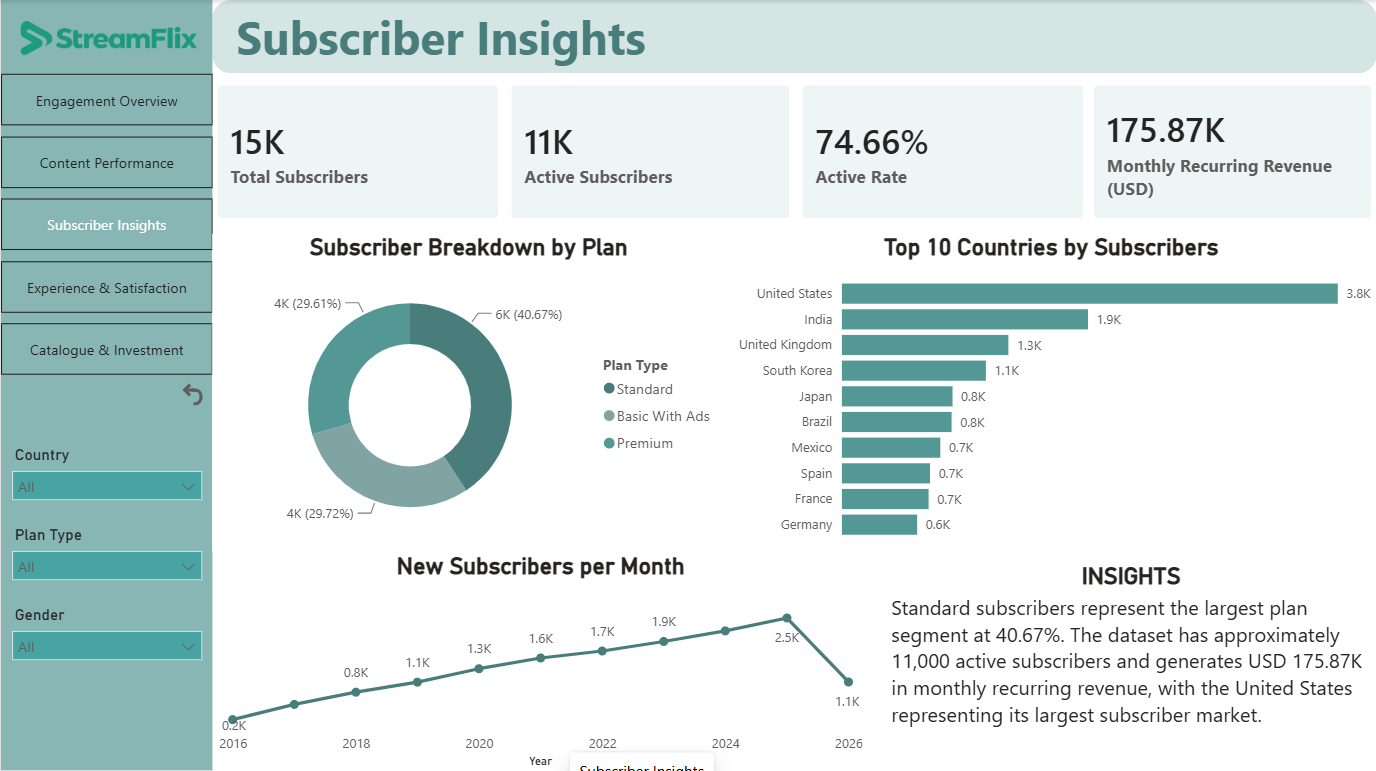

What the dashboard file says about the page in this screenshot:
{"tool":"powerbi","page":{"name":"Subscriber Insights","canvas":[1280,720],"ordinal":2},"visuals":[{"type":"cardVisual","fields":{"Data":["public subscribers.Total Subscribers"]},"box":[197,75,271,134],"z":0,"group":"g3"},{"type":"shape","box":[0,0,196.7,716.7],"z":1000},{"type":"donutChart","title":"Subscriber Breakdown by Plan","fields":{"Category":["public subscribers.plan_type"],"Y":["public subscribers.Total Subscribers"]},"box":[197,218.2,477.2,295.5],"z":1000,"group":"g2"},{"type":"group","id":"g1","title":"Group 1","box":[0,408.8,197.5,223.8],"z":1500},{"type":"shape","box":[196.7,0,1083.3,68.3],"z":2000},{"type":"cardVisual","fields":{"Data":["public subscribers.Active Rate (%)"]},"box":[741,75,271,134],"z":2000,"group":"g3"},{"type":"clusteredBarChart","title":"Top 10 Countries by Subscribers","fields":{"Category":["public subscribers.country"],"Y":["public subscribers.Total Subscribers"]},"box":[674.7,218,605.3,295.1],"z":2000,"group":"g2"},{"type":"textbox","box":[214,0,764,68],"z":3000},{"type":"cardVisual","fields":{"Data":["public subscribers.Monthly Recurring Revenue (USD)"]},"box":[1012,75,268,134],"z":3000,"group":"g3"},{"type":"lineChart","title":"New Subscribers per Month","fields":{"Category":["public subscribers.signup_date.Variation.Date Hierarchy.Year","public subscribers.signup_date.Variation.Date Hierarchy.Month"],"Y":["public subscribers.Total Subscribers"]},"box":[198.4,514.2,608.9,205.5],"z":3000,"group":"g2"},{"type":"cardVisual","fields":{"Data":["public subscribers.Active Subscribers"]},"box":[470,75,269,134],"z":3500,"group":"g3"},{"type":"image","box":[0,0,197.1,68.6],"z":4000},{"type":"pageNavigator","box":[0,68.6,197.1,281.4],"z":5000},{"type":"actionButton","box":[164,352.3,32.6,29.1],"z":6000},{"type":"group","id":"g2","title":"Group 2","box":[197,218,1083,502],"z":7000},{"type":"slicer","fields":{"Values":["public subscribers.country"]},"box":[0,408.8,197.1,74.3],"z":7000,"group":"g1"},{"type":"group","id":"g3","title":"Group 3","box":[197,75,1083,134],"z":8000},{"type":"slicer","fields":{"Values":["public subscribers.plan_type"]},"box":[0,483.1,197.1,74.3],"z":8000,"group":"g1"},{"type":"textbox","title":"INSIGHTS","box":[824.1,513.7,455.9,206.3],"z":9000,"group":"g2"},{"type":"slicer","fields":{"Values":["public subscribers.gender"]},"box":[0,557.4,197.1,74.3],"z":9000,"group":"g1"}]}

Visuals, with their boxes on the page's 1280x720 design canvas (x1, y1, x2, y2). These are canvas units, not pixel positions in the 1376x771 screenshot, which may show the page scaled, cropped or inside an application window:
cardVisual - public subscribers.Total Subscribers: box(197, 75, 468, 209)
shape: box(0, 0, 197, 717)
"Subscriber Breakdown by Plan" donutChart: box(197, 218, 674, 514)
"Group 1" group: box(0, 409, 198, 633)
shape: box(197, 0, 1280, 68)
cardVisual - public subscribers.Active Rate (%): box(741, 75, 1012, 209)
"Top 10 Countries by Subscribers" clusteredBarChart: box(675, 218, 1280, 513)
textbox: box(214, 0, 978, 68)
cardVisual - public subscribers.Monthly Recurring Revenue (USD): box(1012, 75, 1280, 209)
"New Subscribers per Month" lineChart: box(198, 514, 807, 720)
cardVisual - public subscribers.Active Subscribers: box(470, 75, 739, 209)
image: box(0, 0, 197, 69)
pageNavigator: box(0, 69, 197, 350)
actionButton: box(164, 352, 197, 381)
"Group 2" group: box(197, 218, 1280, 720)
slicer - public subscribers.country: box(0, 409, 197, 483)
"Group 3" group: box(197, 75, 1280, 209)
slicer - public subscribers.plan_type: box(0, 483, 197, 557)
"INSIGHTS" textbox: box(824, 514, 1280, 720)
slicer - public subscribers.gender: box(0, 557, 197, 632)
